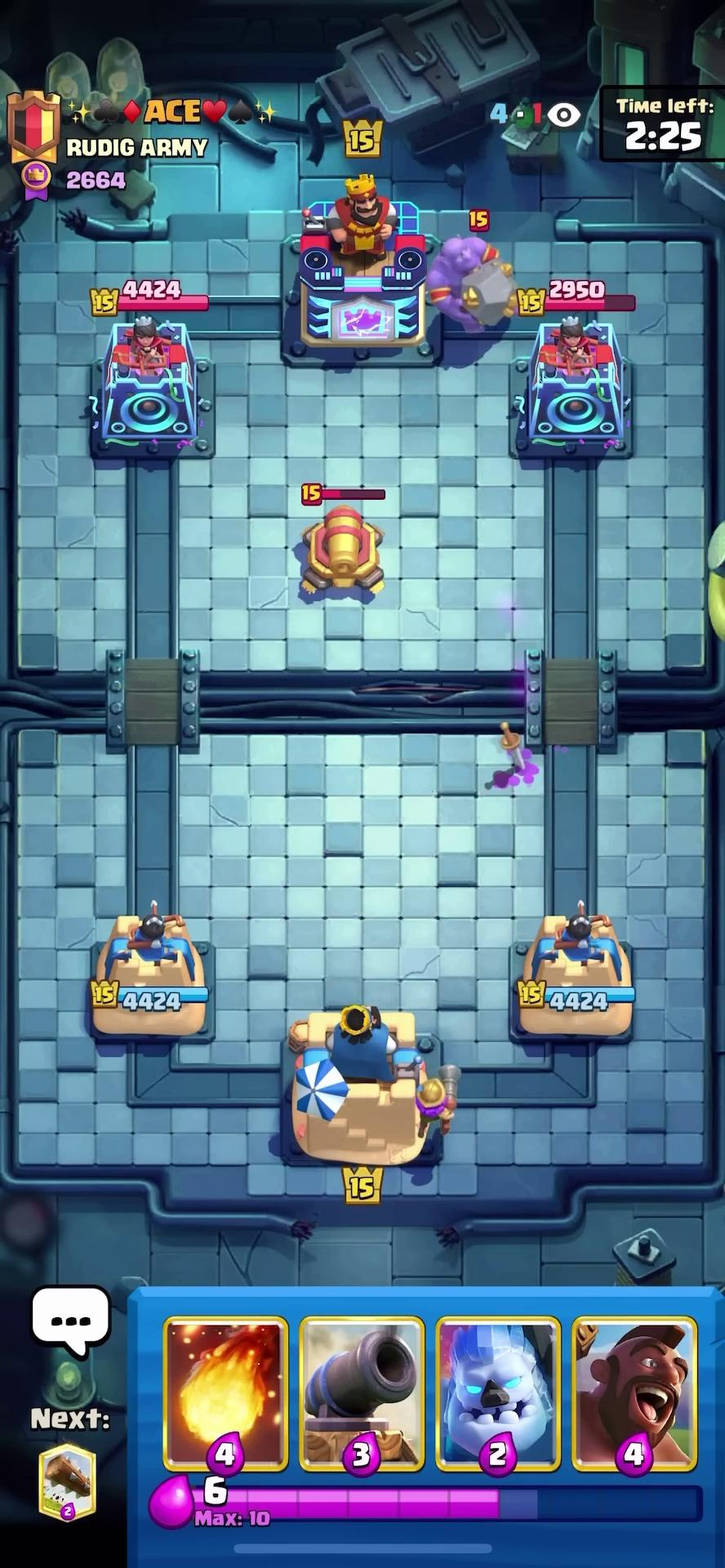musketeer: (410, 1045, 480, 1127)
